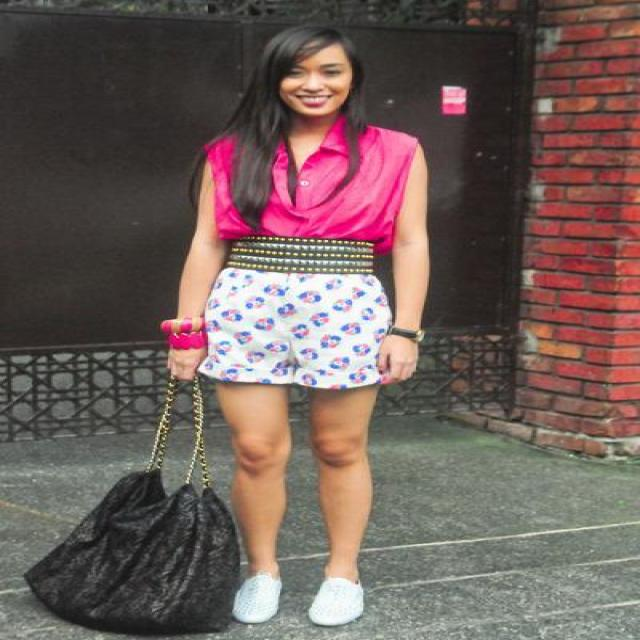bag: (22, 468, 248, 639)
shirt: (198, 122, 421, 242)
shoe: (234, 576, 362, 623)
skirt: (198, 269, 389, 388)
